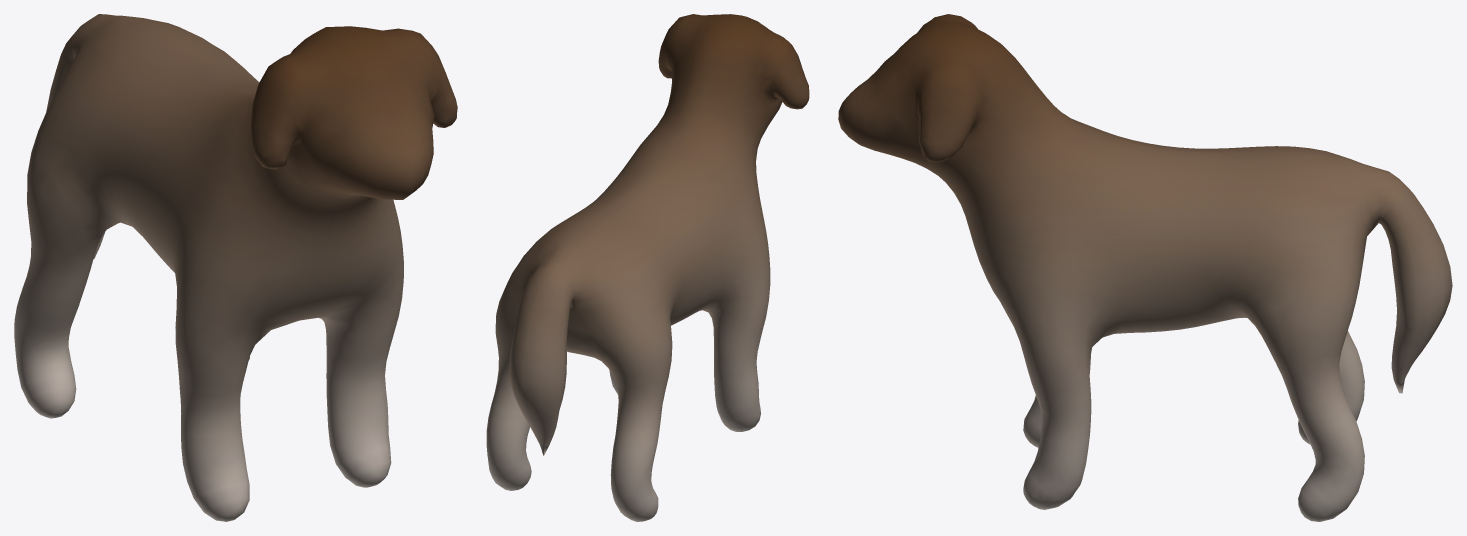
File: Dog.fbx
3 views of the same model, side by side, from view 1: azimuth 30°, elevation 25°; view 2: azimuth 150°, elevation 25°; view 3: azimuth 270°, elevation 25° (orthographic). The views are drawn at different scales.
Visible parts, largest first — view 1: Dog; view 2: Dog; view 3: Dog.
Part boxes in pixels (x1=…): Dog: x1=14, y1=14, x2=457, y2=521; Dog: x1=486, y1=14, x2=809, y2=521; Dog: x1=838, y1=14, x2=1452, y2=521.
Bounding box in the file's own units: 55.15 × 120 × 147.
